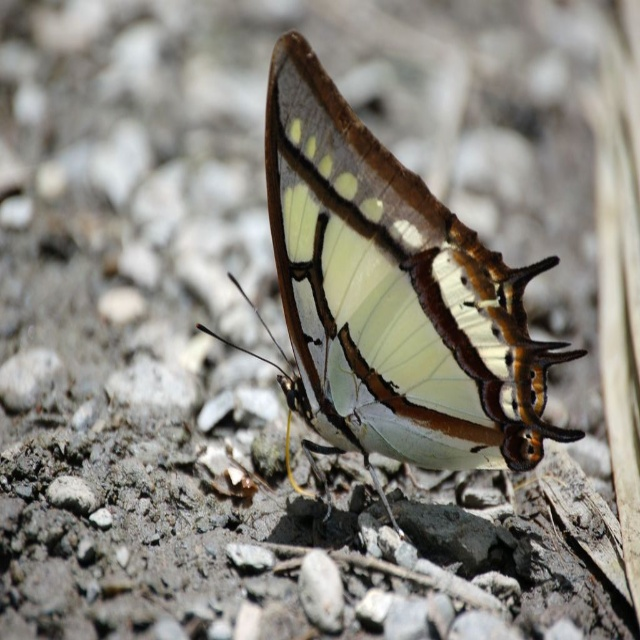Butterfly: (194, 26, 590, 550)
